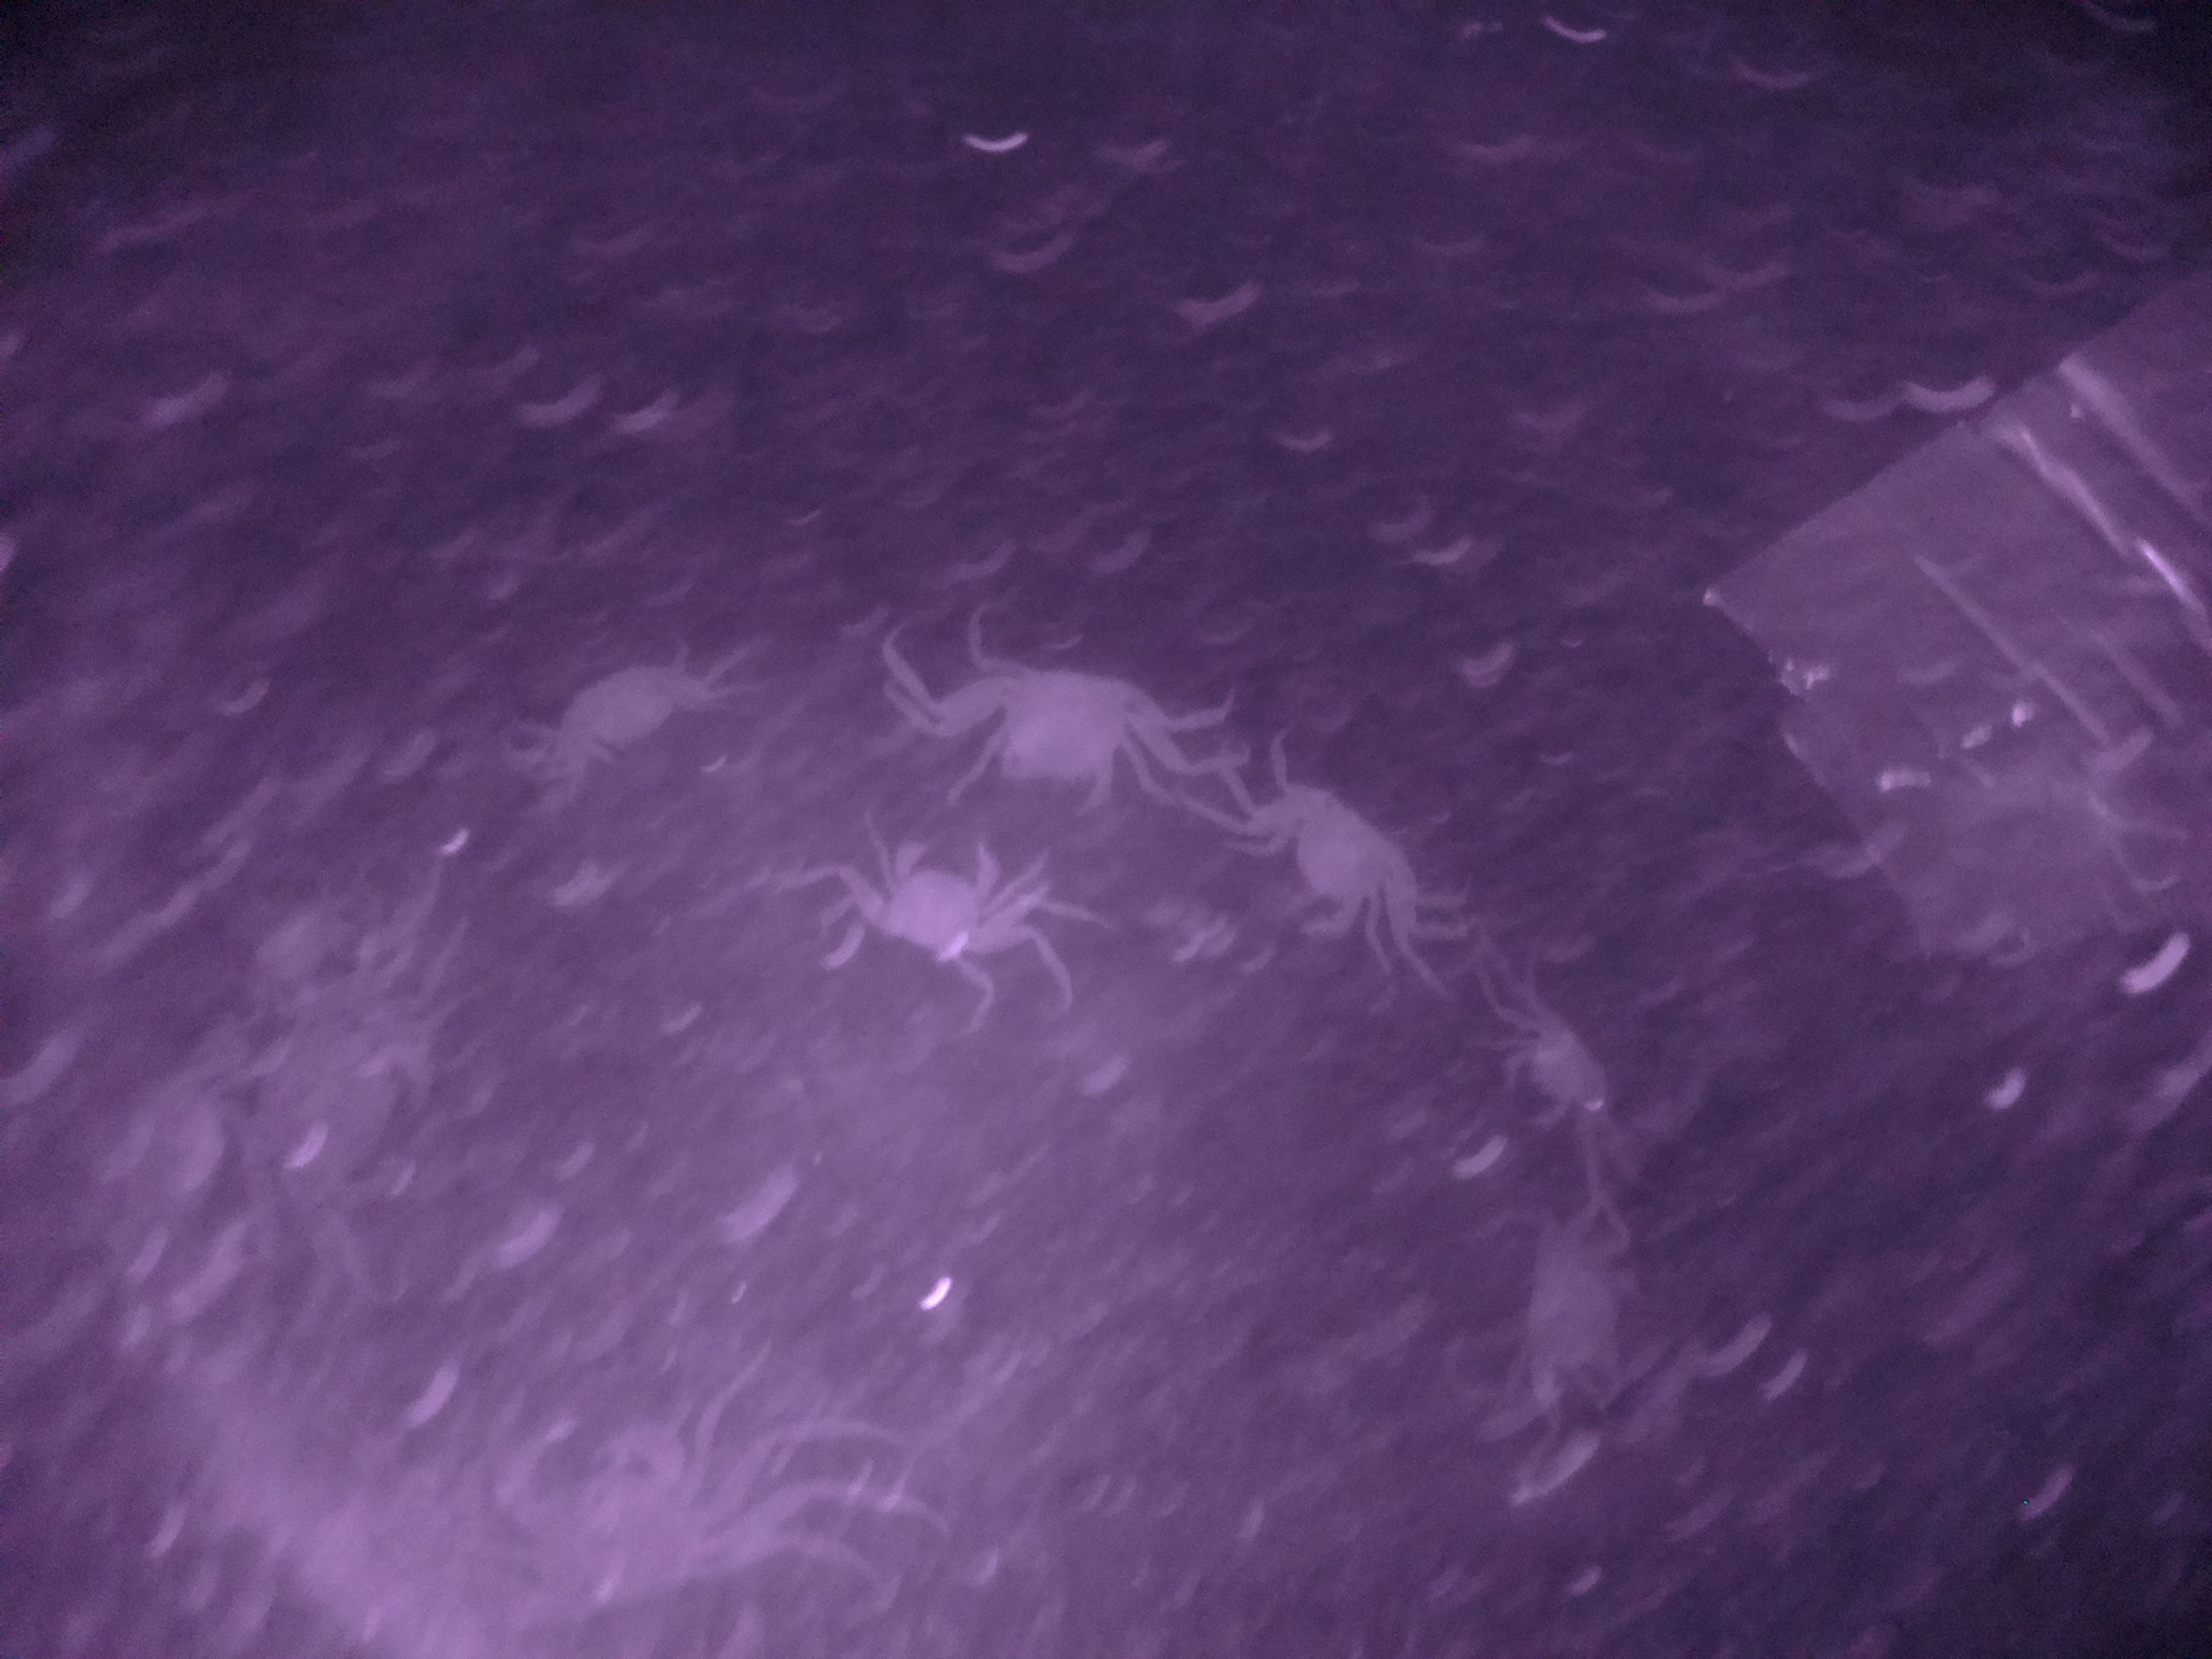Crab: (1256, 765, 1439, 960), (953, 648, 1179, 791), (862, 819, 1031, 974), (1491, 1009, 1622, 1162)
